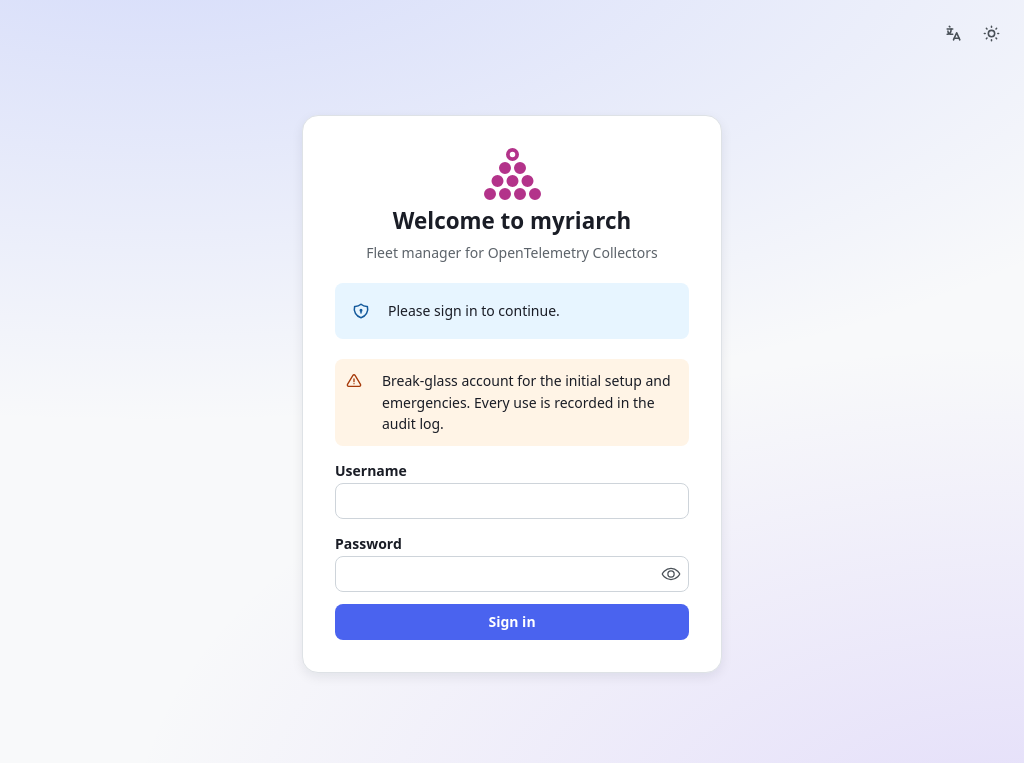
Scenario: login page: bootstrap admin › signs in with username and password and sends exactly those fields
The width and height of the screenshot is (1024, 763).
Type " admin " into the field labelled "Username" at (512, 501), box [335, 483, 689, 519]
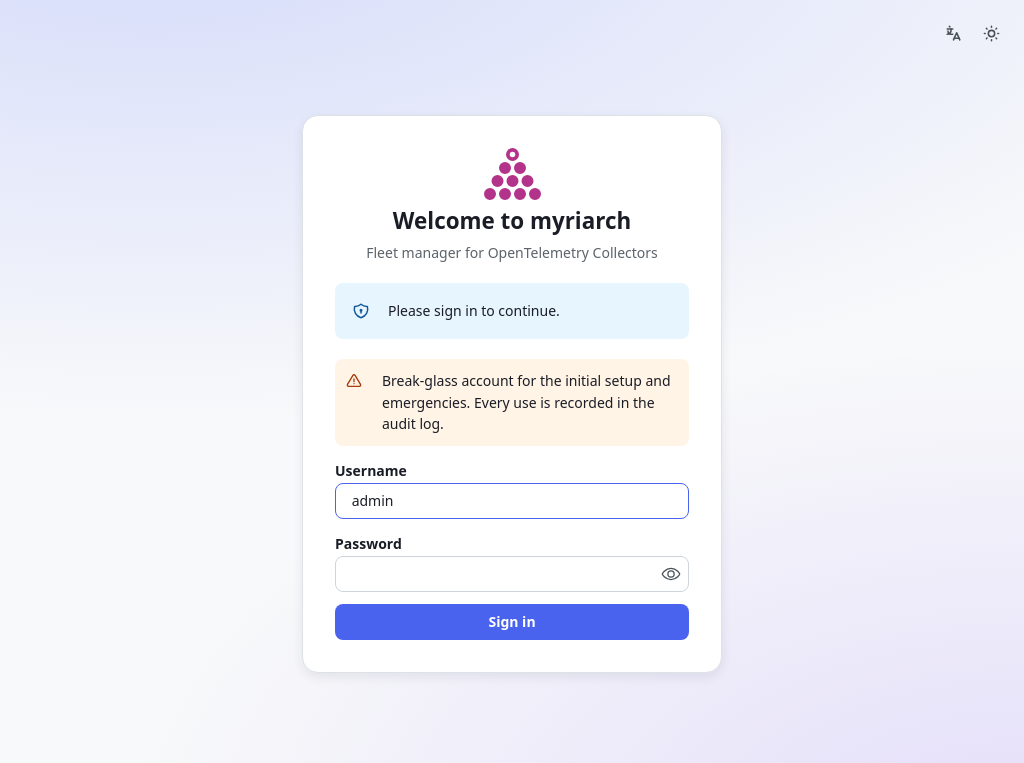
Type "generated-test-password" into the password field labelled "Password" at (512, 574), box [336, 557, 688, 591]
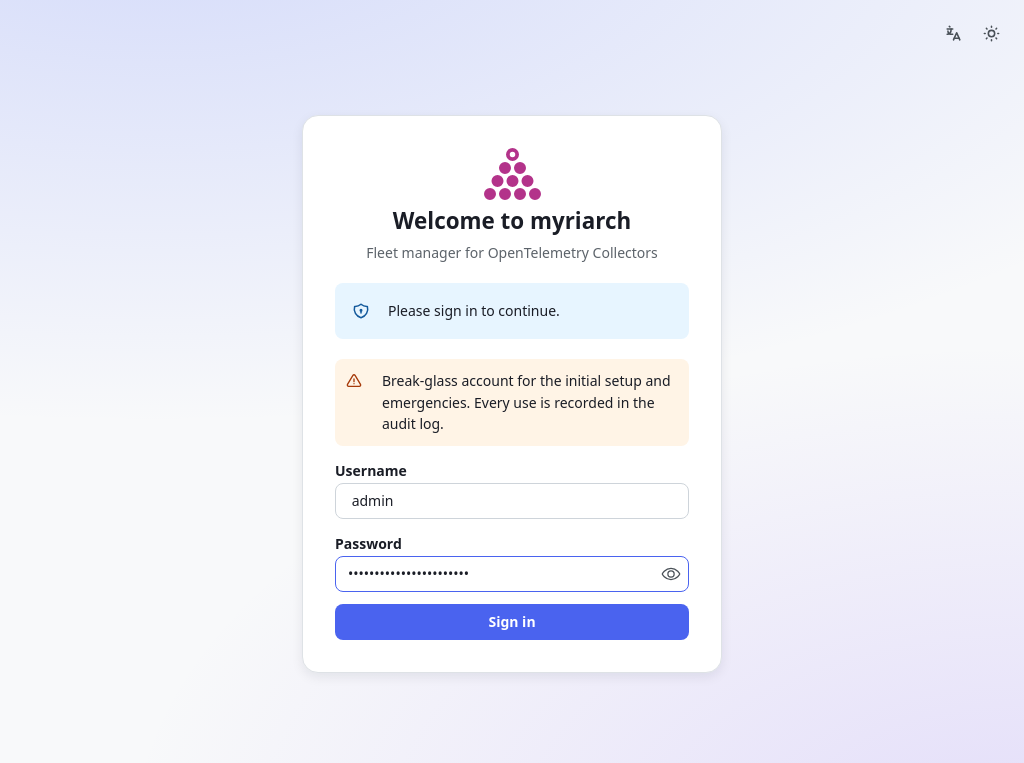
Click the button "Sign in" at (512, 622), box [335, 604, 689, 640]
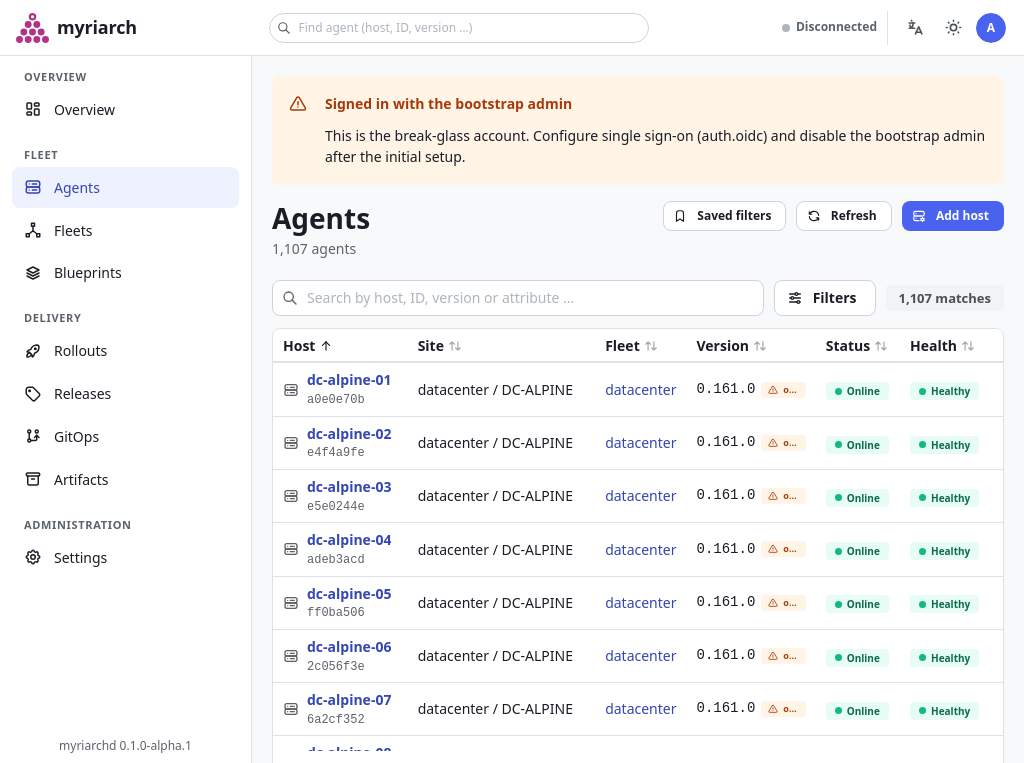
Now the message with test id "bootstrap-banner" is shown, box [272, 76, 1004, 185]
